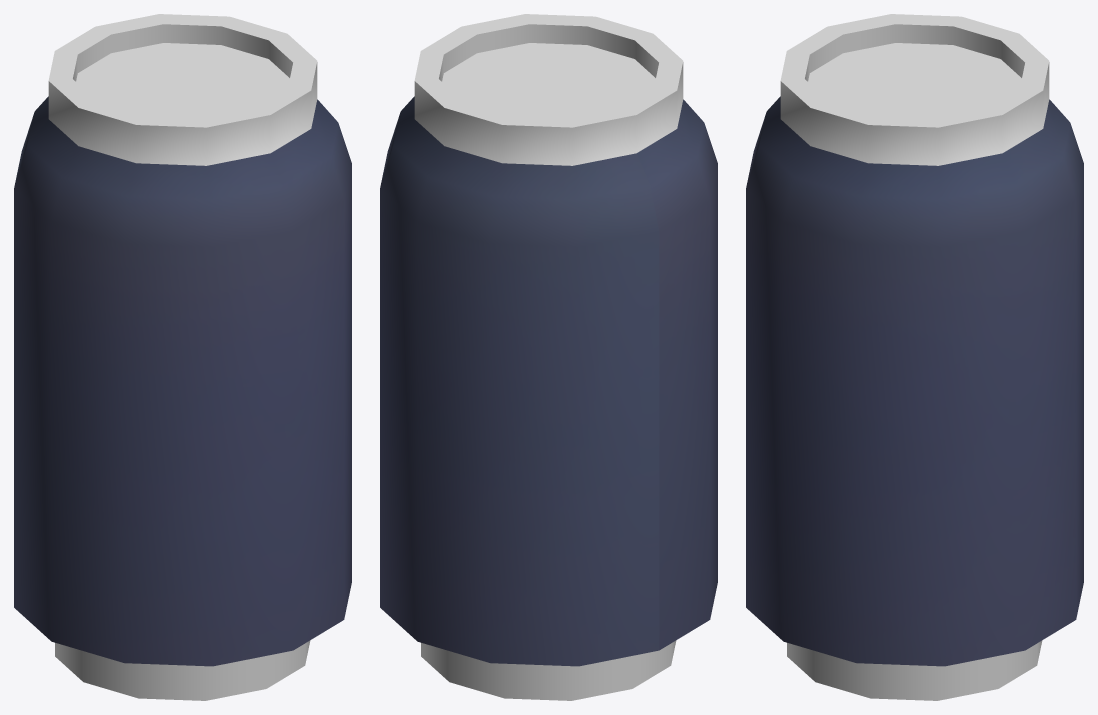
File: SM_drink_soda_09.fbx
The picture shows the model from 3 angles, left to right: view 1: azimuth 30°, elevation 25°; view 2: azimuth 150°, elevation 25°; view 3: azimuth 270°, elevation 25°; orthographic projection.
Visible parts, largest first — view 1: Cylinder068; view 2: Cylinder068; view 3: Cylinder068.
Boxes of the visible parts, x1,y1,x2,y2 form: Cylinder068: (14, 14, 351, 700); Cylinder068: (380, 14, 717, 700); Cylinder068: (746, 14, 1083, 700).
Size of the model in its own units: 8.67 by 16.3 by 8.67.
